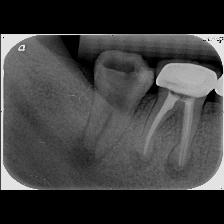apical_lesion: (58, 51, 156, 189), (121, 60, 222, 191)
